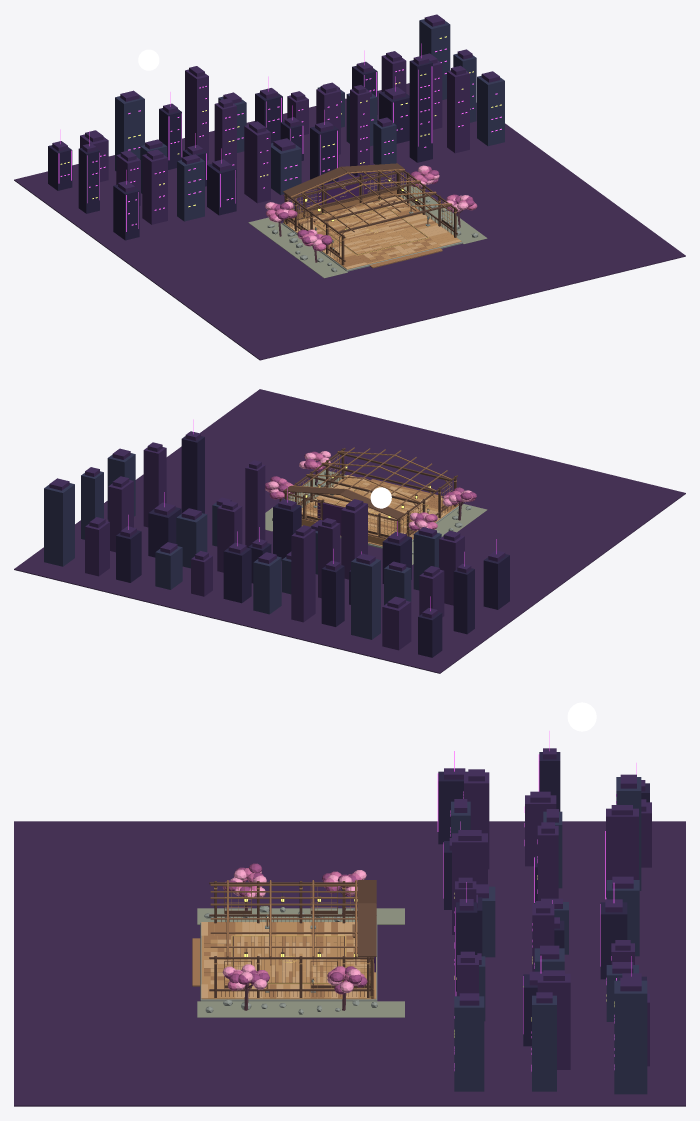
The model's file is dojo.glb.
3 renders of one model, top to bottom at view 1: azimuth 30°, elevation 25°; view 2: azimuth 150°, elevation 25°; view 3: azimuth 270°, elevation 25°, orthographic. The views are drawn at different scales.
Visible parts, largest first — view 1: Dojo_Material_Sky_Ground, Dojo_Material_City_Purple, Dojo_Material_City_Dark, Dojo_Material_City_Slate, Dojo_Material_Timber_Deep, Dojo_Material_Timber_Honey, Dojo_Material_Timber_Warm, Dojo_Material_Garden_Gravel, Dojo_Material_Timber_Light, Dojo_Material_Timber_Edge, Dojo_Material_Neon_Violet, Dojo_Material_Stone (+4 smaller); view 2: Dojo_Material_Sky_Ground, Dojo_Material_City_Purple, Dojo_Material_City_Slate, Dojo_Material_City_Dark, Dojo_Material_Timber_Deep, Dojo_Material_Timber_Warm, Dojo_Material_Timber_Honey, Dojo_Material_Timber_Edge, Dojo_Material_Garden_Gravel, Dojo_Material_Timber_Light, Dojo_Material_Petal_Shade, Dojo_Material_Petal_Light (+1 smaller); view 3: Dojo_Material_Sky_Ground, Dojo_Material_City_Purple, Dojo_Material_City_Slate, Dojo_Material_City_Dark, Dojo_Material_Timber_Honey, Dojo_Material_Timber_Deep, Dojo_Material_Garden_Gravel, Dojo_Material_Timber_Light, Dojo_Material_Timber_Warm, Dojo_Material_Timber_Edge, Dojo_Material_Stone, Dojo_Material_Petal_Light (+4 smaller).
Boxes of the visible parts, x1,y1,x2,y2 form: Dojo_Material_Sky_Ground: (14, 83, 685, 360); Dojo_Material_City_Purple: (52, 14, 499, 224); Dojo_Material_City_Dark: (48, 60, 432, 240); Dojo_Material_City_Slate: (115, 19, 504, 221); Dojo_Material_Timber_Deep: (283, 163, 457, 265); Dojo_Material_Timber_Honey: (283, 171, 461, 269); Dojo_Material_Timber_Warm: (283, 169, 451, 267); Dojo_Material_Garden_Gravel: (248, 184, 487, 278); Dojo_Material_Timber_Light: (290, 196, 461, 268); Dojo_Material_Timber_Edge: (287, 169, 453, 268); Dojo_Material_Neon_Violet: (60, 43, 501, 225); Dojo_Material_Stone: (267, 191, 478, 272); Dojo_Material_Sky_Ground: (14, 389, 685, 673); Dojo_Material_City_Purple: (49, 431, 505, 650); Dojo_Material_City_Slate: (44, 453, 441, 639); Dojo_Material_City_Dark: (116, 436, 509, 657); Dojo_Material_Timber_Deep: (283, 448, 457, 539); Dojo_Material_Timber_Warm: (291, 451, 458, 545); Dojo_Material_Timber_Honey: (287, 457, 458, 546); Dojo_Material_Timber_Edge: (288, 447, 453, 538); Dojo_Material_Garden_Gravel: (265, 470, 487, 564); Dojo_Material_Timber_Light: (301, 475, 458, 538); Dojo_Material_Petal_Shade: (265, 451, 476, 530); Dojo_Material_Petal_Light: (265, 451, 471, 528); Dojo_Material_Sky_Ground: (14, 821, 685, 1106); Dojo_Material_City_Purple: (444, 748, 651, 1069); Dojo_Material_City_Slate: (451, 777, 647, 1094); Dojo_Material_City_Dark: (438, 752, 649, 1046); Dojo_Material_Timber_Honey: (201, 887, 376, 999); Dojo_Material_Timber_Deep: (209, 880, 376, 998); Dojo_Material_Garden_Gravel: (197, 908, 404, 1017); Dojo_Material_Timber_Light: (201, 922, 370, 998); Dojo_Material_Timber_Warm: (192, 880, 374, 998); Dojo_Material_Timber_Edge: (192, 884, 370, 996); Dojo_Material_Stone: (200, 906, 377, 1014); Dojo_Material_Petal_Light: (222, 869, 366, 992).
Bounding box in the file's own units: 110 × 33.14 × 110.
